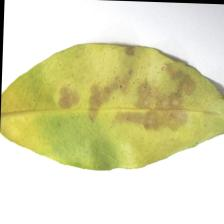canker: (52, 58, 194, 133)
